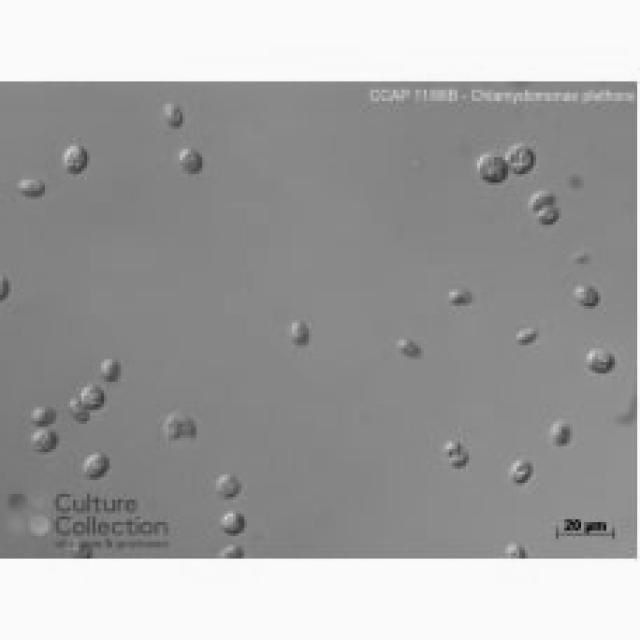Green Algae: (471, 152, 511, 185), (502, 143, 539, 177), (584, 340, 617, 373), (59, 140, 90, 174), (573, 278, 606, 309), (76, 449, 109, 480), (93, 354, 126, 384), (213, 463, 239, 500), (286, 314, 312, 351), (28, 424, 59, 455), (180, 143, 205, 180), (216, 508, 247, 536), (393, 332, 421, 359), (81, 382, 107, 410), (28, 404, 59, 427), (511, 455, 536, 483), (163, 101, 185, 132), (550, 418, 573, 446), (20, 174, 45, 199), (534, 205, 562, 227), (516, 326, 544, 348), (452, 286, 477, 309), (528, 188, 556, 208), (67, 399, 93, 418), (444, 438, 463, 455)
